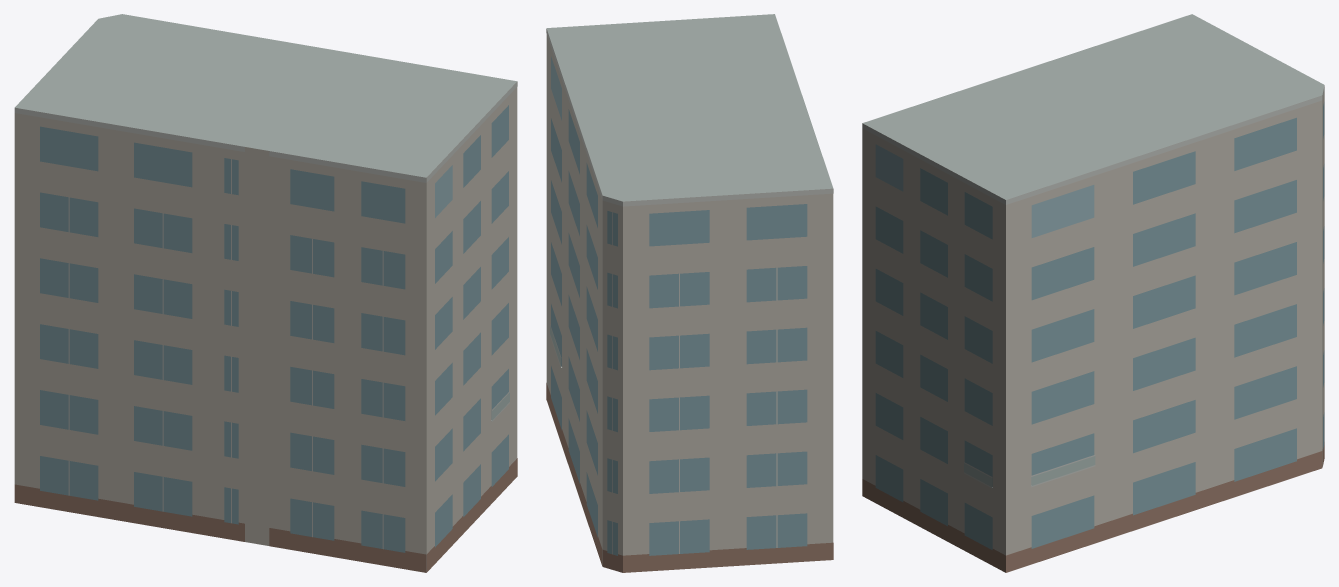
Rendered from survey-upis-32746030.glb.
3 views of the same model, side by side, from view 1: azimuth 30°, elevation 25°; view 2: azimuth 150°, elevation 25°; view 3: azimuth 270°, elevation 25° (orthographic). The views are drawn at different scales.
Parts seen in each view (by area): view 1: survey-upis-32746030.tmp; view 2: survey-upis-32746030.tmp; view 3: survey-upis-32746030.tmp.
Boxes of the visible parts, x1,y1,x2,y2 form: survey-upis-32746030.tmp: (14, 14, 517, 572); survey-upis-32746030.tmp: (546, 14, 833, 572); survey-upis-32746030.tmp: (862, 14, 1324, 572).
Bounding box in the file's own units: 19.6 × 18.3 × 20.58.
